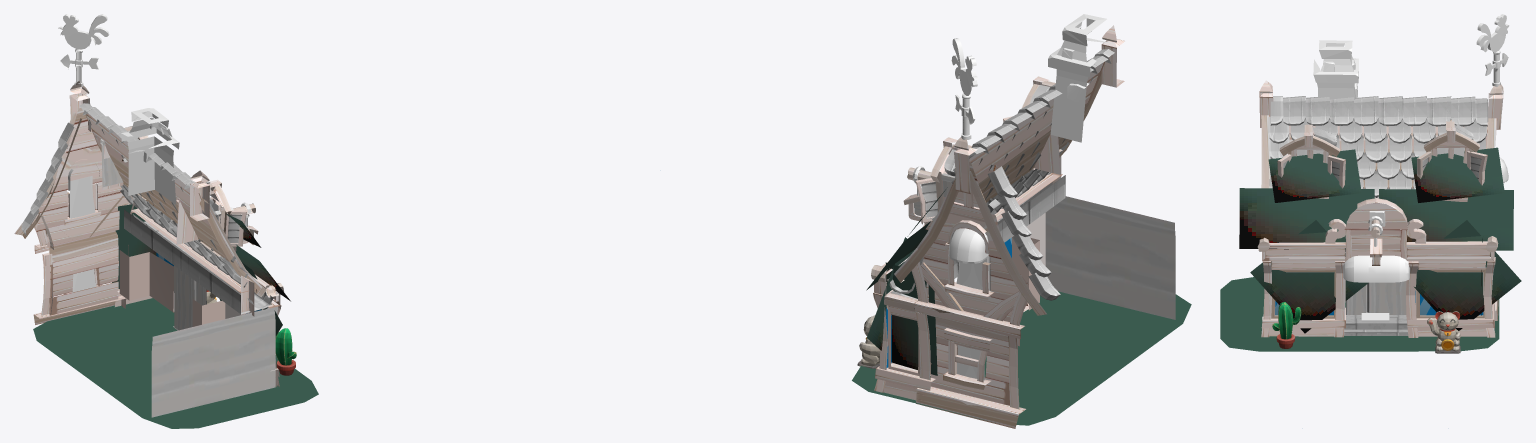
File: VillageTokenShop.fbx
The picture shows the model from 3 angles, left to right: view 1: azimuth 30°, elevation 25°; view 2: azimuth 150°, elevation 25°; view 3: azimuth 270°, elevation 25°; orthographic projection. The views are drawn at different scales.
Parts seen in each view (by area): view 1: wood, ShadowSquareDark, curtains_night, tile, WeatherRooster, glowingHaloPlane (2), Prop_Cactus_texture_v1, glowingHaloPlaneWindowTopL (2); view 2: wood, ShadowSquareDark, tile, glowingHaloPlane (2), curtains_night, WeatherRooster, hoods, glowingHaloPlane (3), glowingHaloPlaneWindowTopR (1), NPCHouseDecorationPropCat; view 3: wood, tile, ShadowSquareDark, glowingHaloPlaneWindowTopL (2), glowingHaloPlaneWindowTopR (1), glowingHaloPlane (3), glowingHaloPlane (1), glowingHaloPlaneWindowTopR, glowingHaloPlaneWindowTopL, hoods, WeatherRooster, NPCHouseDecorationPropCat (+1 smaller).
Boxes of the visible parts, box(x1,y1,x2,y2) form: wood: box(14, 81, 283, 417); ShadowSquareDark: box(33, 298, 318, 428); curtains_night: box(70, 176, 243, 326); tile: box(21, 103, 248, 287); WeatherRooster: box(58, 14, 109, 83); glowingHaloPlane (2): box(112, 204, 156, 288); Prop_Cactus_texture_v1: box(275, 328, 296, 375); glowingHaloPlaneWindowTopL (2): box(236, 244, 290, 301); wood: box(871, 14, 1175, 428); ShadowSquareDark: box(852, 291, 1191, 425); tile: box(919, 49, 1114, 300); glowingHaloPlane (2): box(885, 262, 937, 375); curtains_night: box(891, 213, 1045, 388); WeatherRooster: box(951, 38, 978, 135); hoods: box(948, 228, 988, 263); glowingHaloPlane (3): box(867, 237, 915, 350); glowingHaloPlaneWindowTopR (1): box(866, 221, 930, 290); NPCHouseDecorationPropCat: box(857, 315, 880, 368); wood: box(1257, 40, 1503, 337); tile: box(1268, 96, 1487, 198); ShadowSquareDark: box(1220, 277, 1499, 351); glowingHaloPlaneWindowTopL (2): box(1239, 188, 1374, 249); glowingHaloPlaneWindowTopR (1): box(1379, 189, 1513, 250); glowingHaloPlane (3): box(1414, 220, 1521, 330); glowingHaloPlane (1): box(1250, 220, 1368, 333); glowingHaloPlaneWindowTopR: box(1411, 147, 1504, 202); glowingHaloPlaneWindowTopL: box(1268, 149, 1361, 202); hoods: box(1343, 157, 1508, 282); WeatherRooster: box(1476, 14, 1509, 83); NPCHouseDecorationPropCat: box(1427, 311, 1460, 353).
Bounding box in the file's own units: 10.98 × 7.52 × 7.15.
9 materials, 6 textured.
